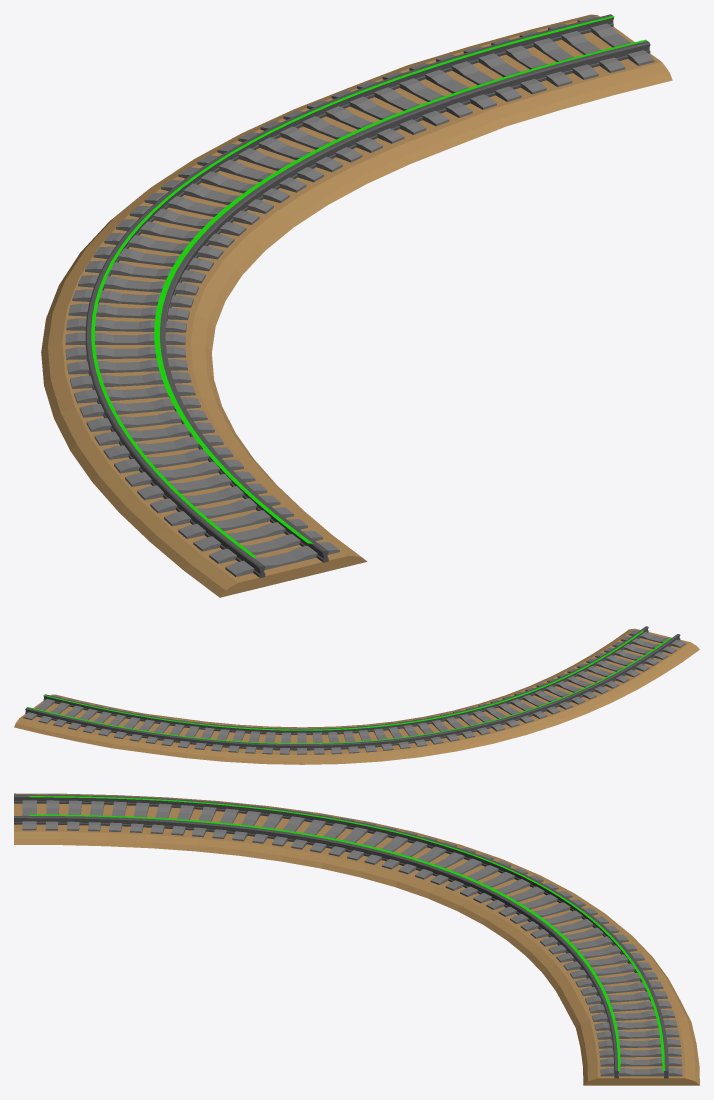
The picture shows the model from 3 angles, top to bottom: view 1: azimuth 30°, elevation 25°; view 2: azimuth 150°, elevation 25°; view 3: azimuth 270°, elevation 25°; orthographic projection. The views are drawn at different scales.
Visible parts, largest first — view 1: curve, collide.001; view 2: curve, collide.001; view 3: curve, collide.001.
Boxes of the visible parts, left/top/right/bottom form: curve: left=41, top=14, right=672, bottom=597; collide.001: left=91, top=16, right=646, bottom=557; curve: left=14, top=626, right=699, bottom=764; collide.001: left=27, top=630, right=671, bottom=743; curve: left=14, top=793, right=699, bottom=1085; collide.001: left=28, top=796, right=664, bottom=1071.
Size of the model in its own units: 2187 by 50.52 by 2187.
